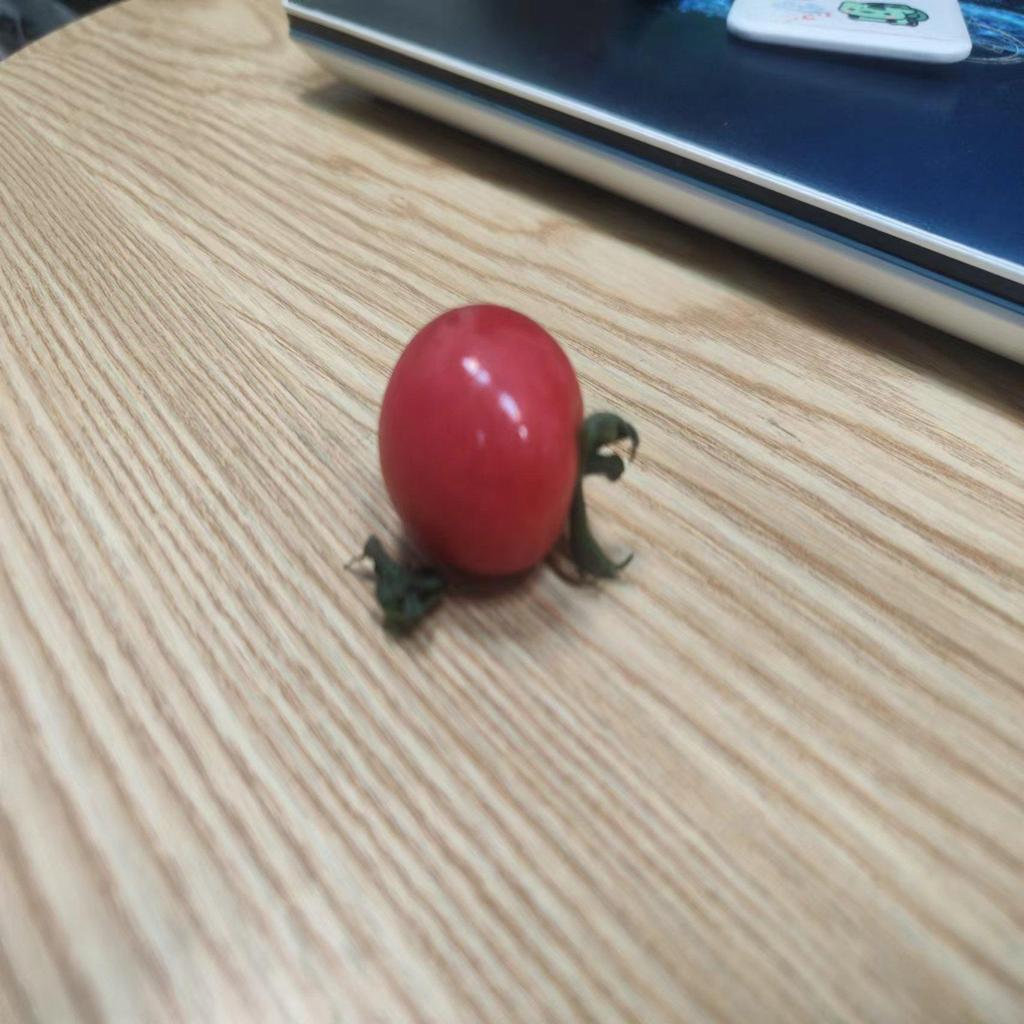tomato: (345, 293, 631, 600)
